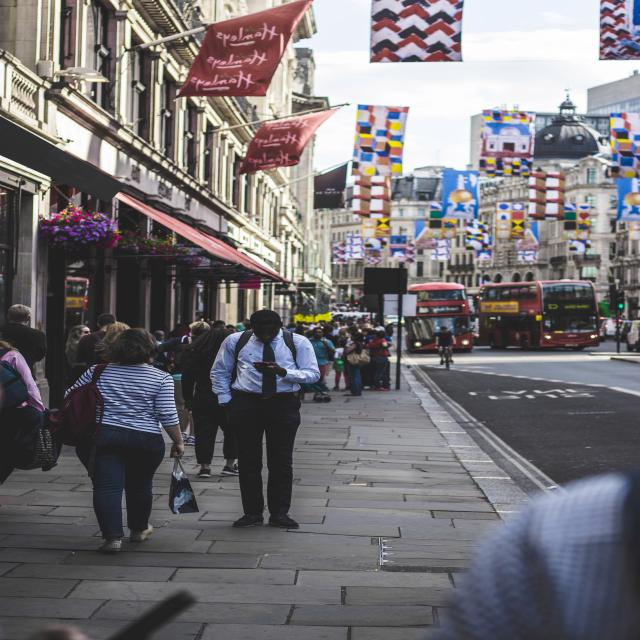adult: (64, 329, 186, 555), (205, 306, 319, 537)
